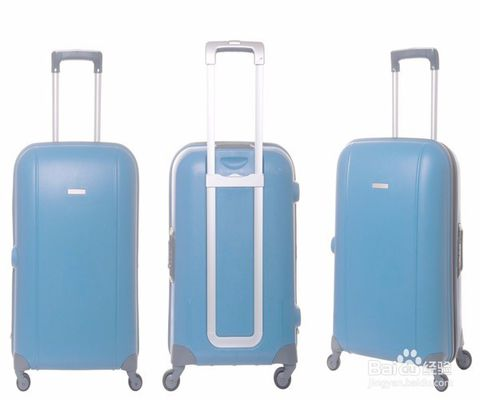luggage: (11, 50, 147, 393)
suitcase: (162, 41, 302, 391), (11, 50, 144, 392)
